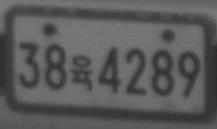2: (125, 48, 148, 95)
3: (19, 41, 39, 87)
4: (98, 46, 122, 94)
8: (152, 49, 175, 96), (44, 44, 67, 89)
9: (177, 49, 201, 97)
육: (70, 54, 93, 91)
